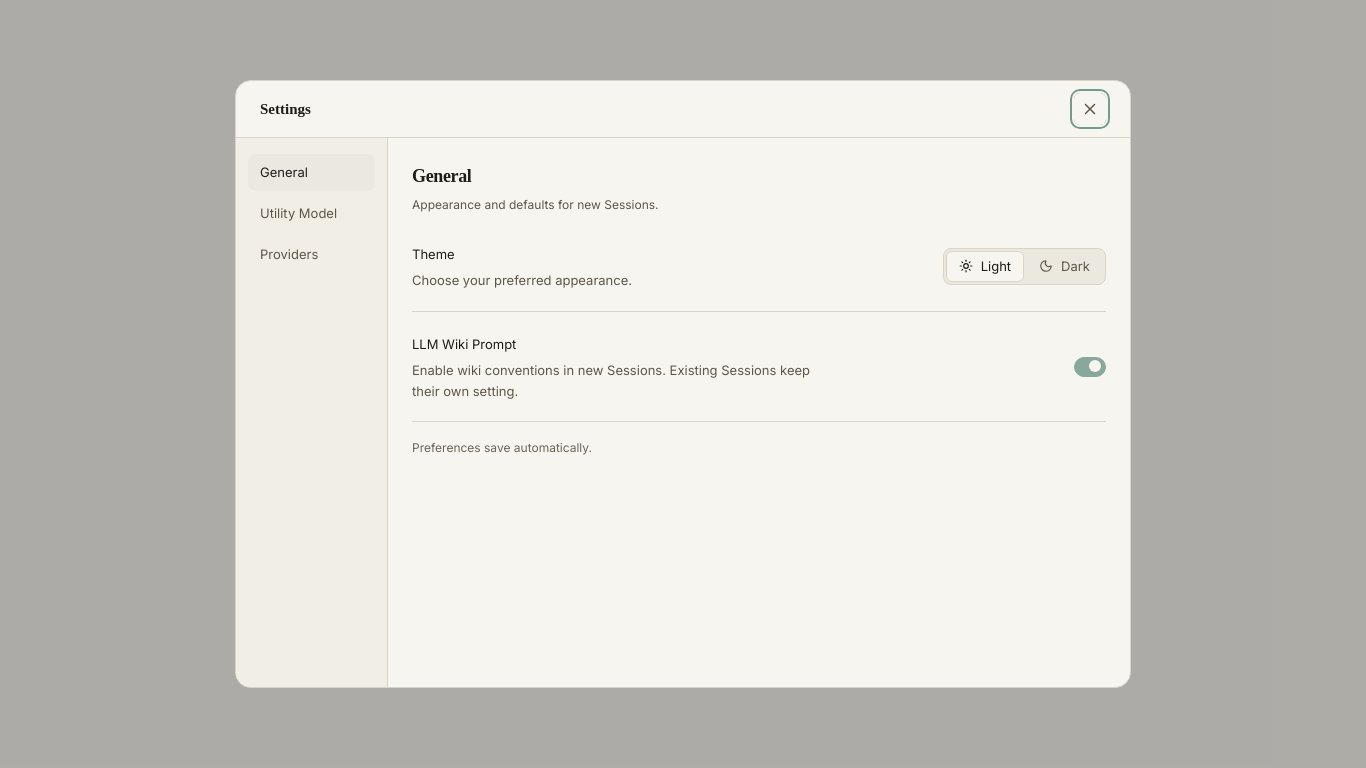
returns to the Providers directory when its category is selected again
Click the button with test id "settings-section-providers".
click(312, 254)  # box [248, 236, 375, 272]
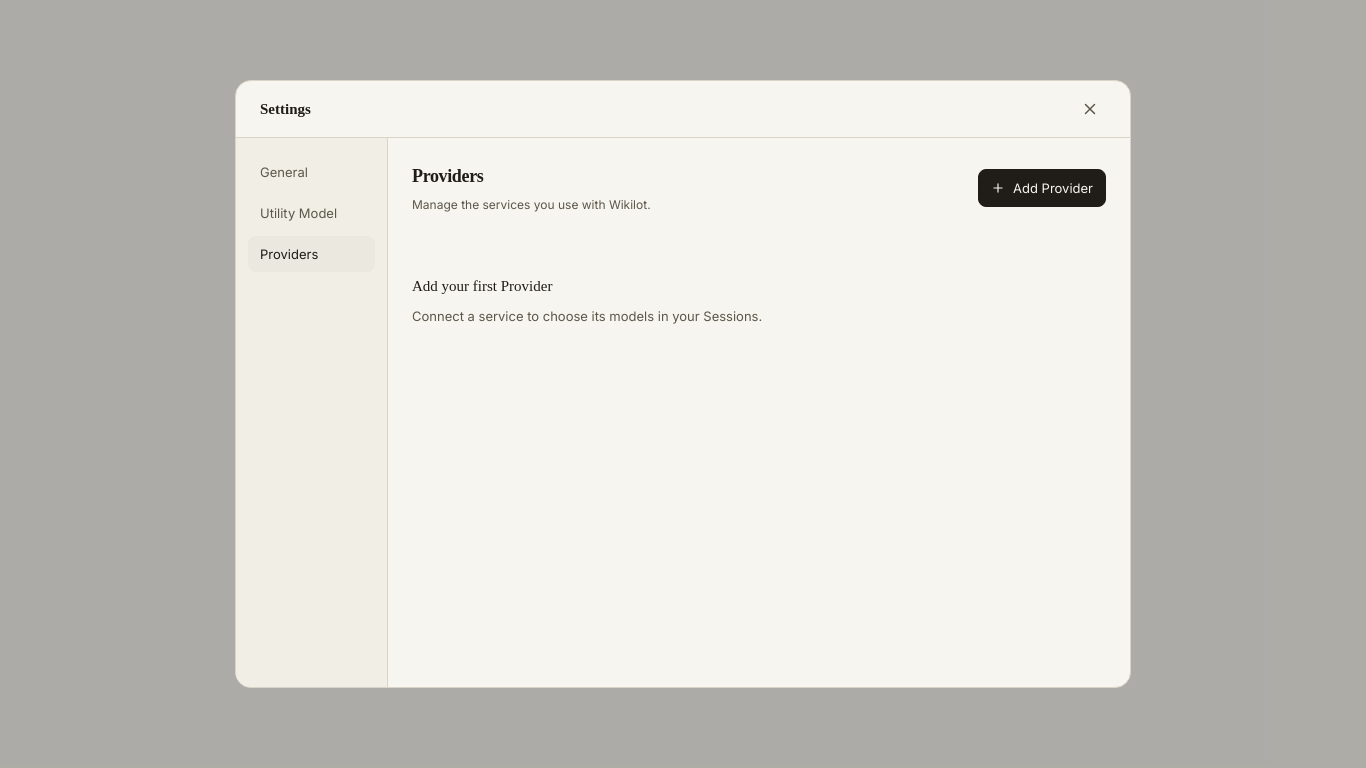
Click the button with test id "provider-add".
click(1042, 188)  # box [978, 169, 1106, 207]
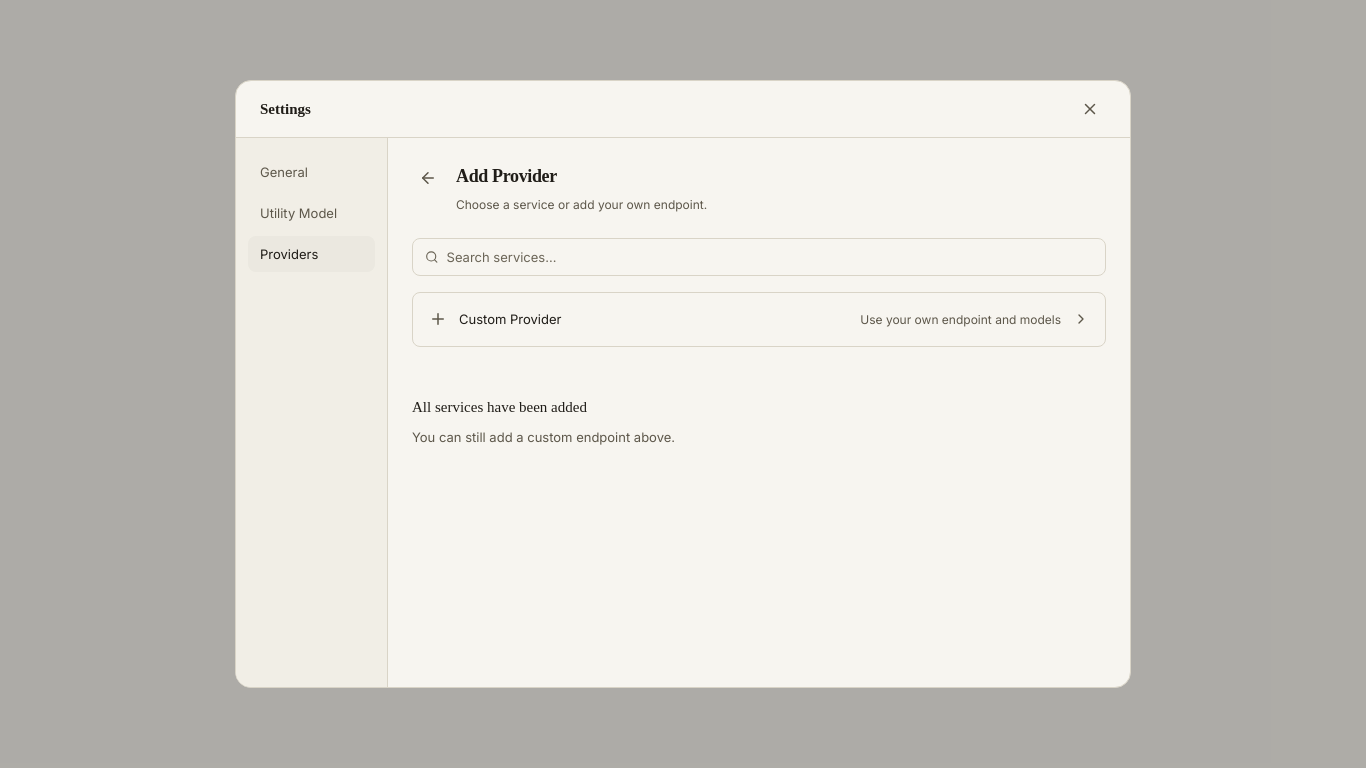
Click the button with test id "provider-new".
click(510, 319)  # box [412, 292, 1106, 347]
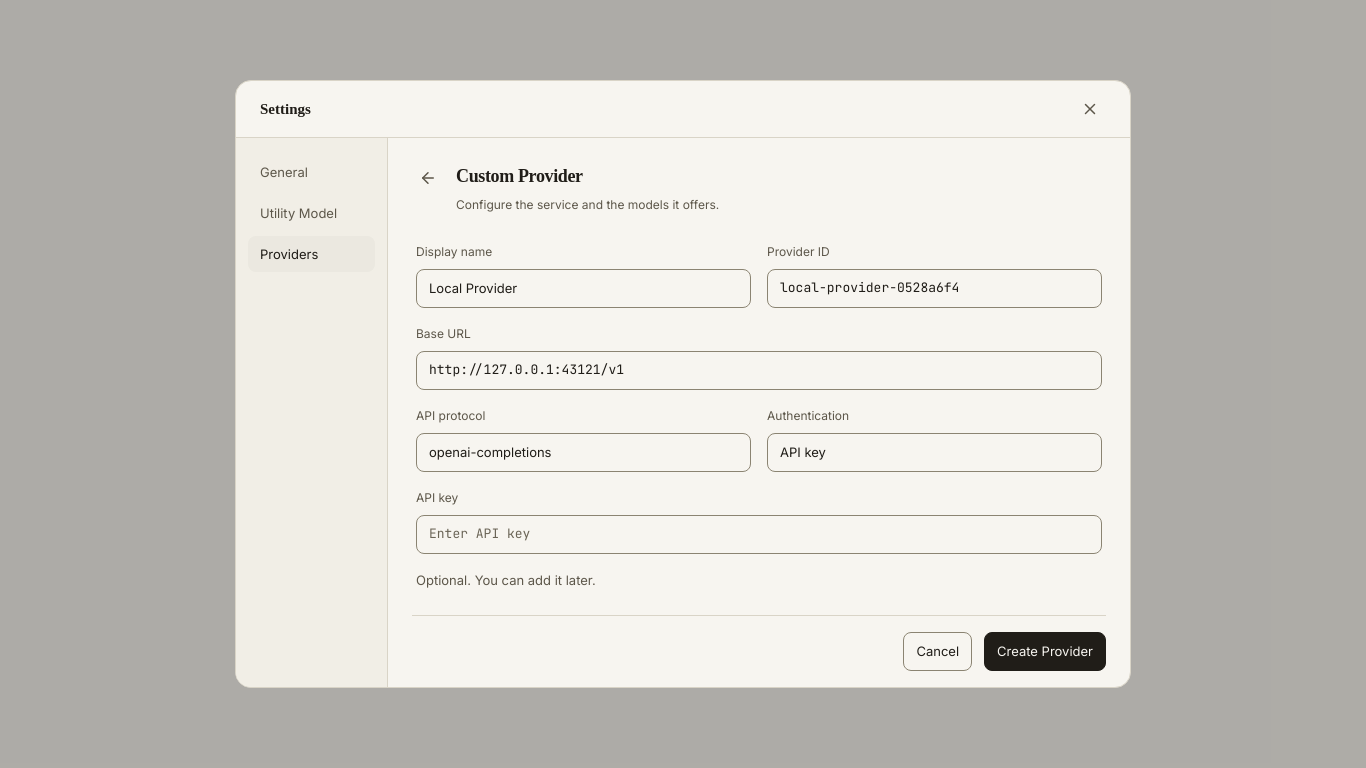
Expected: the form with test id "provider-form" is shown, [412, 238, 1106, 687]
Click the button with test id "settings-section-providers".
click(312, 254)  # box [248, 236, 375, 272]
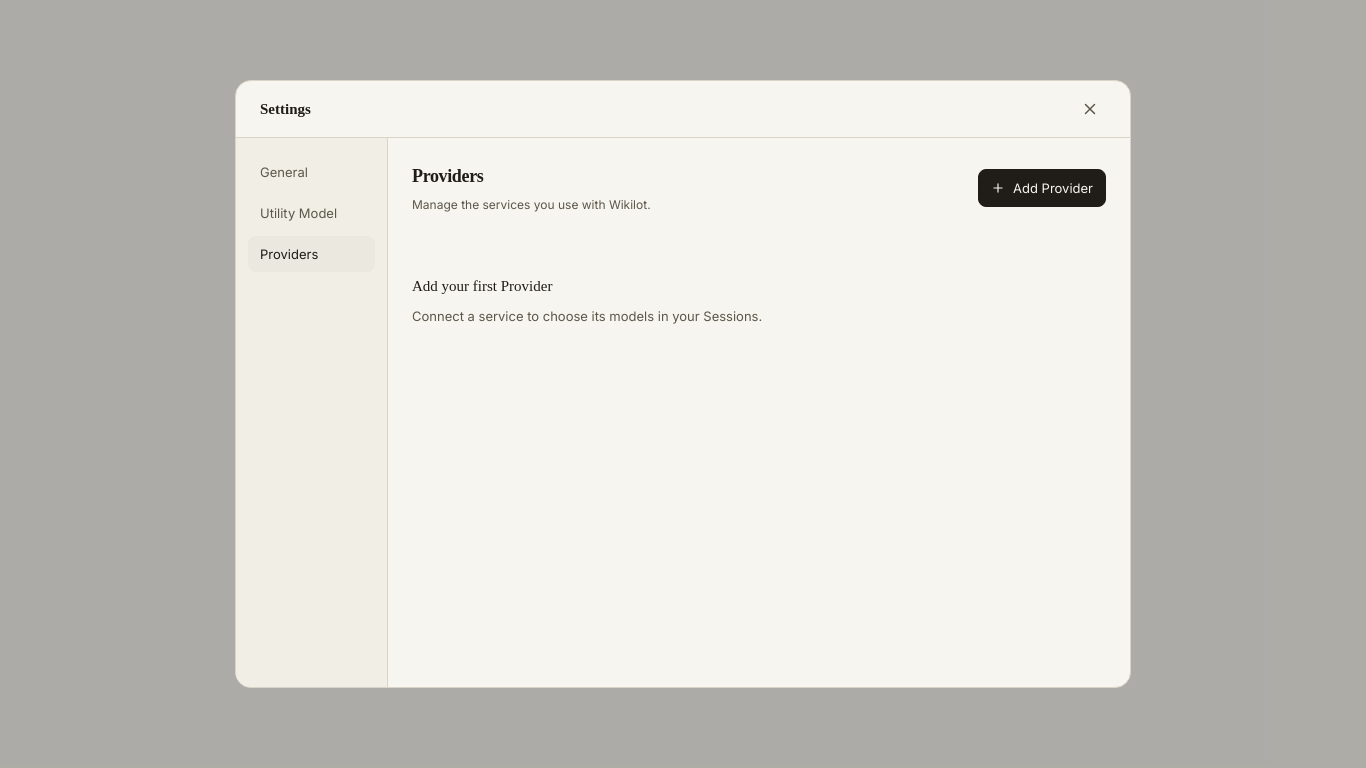
Expected: the form with test id "provider-form" is gone
Expected: the button with test id "provider-add" is shown, [978, 169, 1106, 207]
